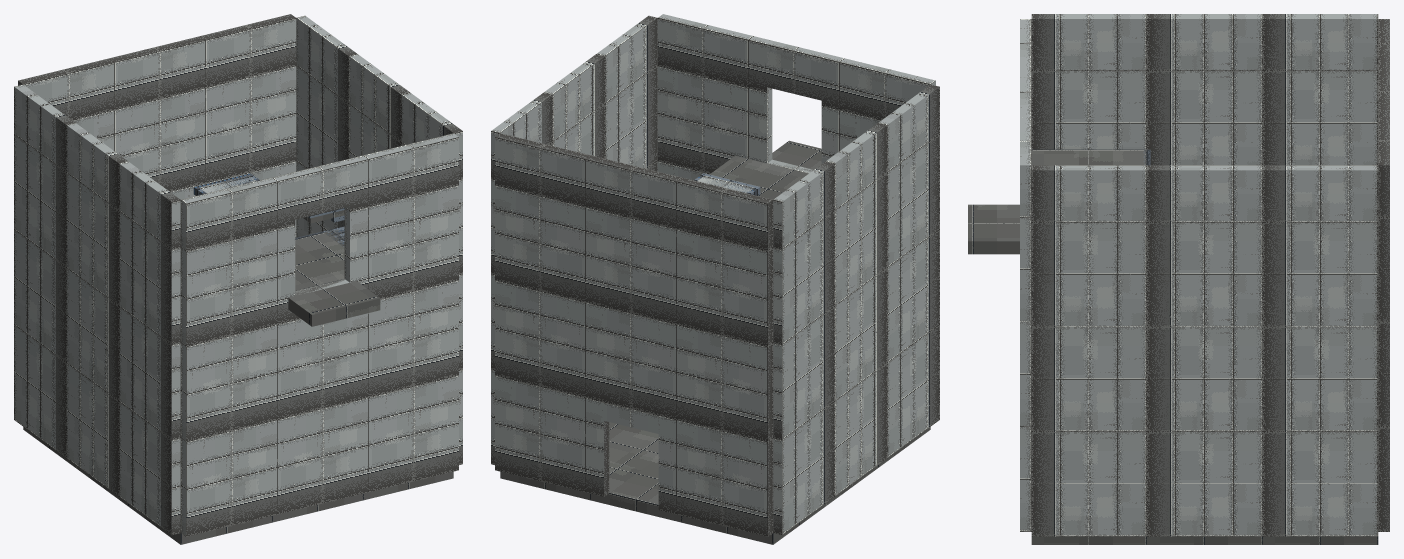
Rendered from shell_tower_spiral.glb.
3 renders of one model, left to right at view 1: azimuth 30°, elevation 25°; view 2: azimuth 150°, elevation 25°; view 3: azimuth 270°, elevation 25°, orthographic. The views are drawn at different scales.
Parts seen in each view (by area): view 1: shell_tower_spiral; view 2: shell_tower_spiral; view 3: shell_tower_spiral.
Part boxes in pixels (x1,y1,x2,y2): shell_tower_spiral: (14,14,462,544); shell_tower_spiral: (491,14,939,544); shell_tower_spiral: (968,14,1389,544).
Size of what is drawn, in the model's own units: 12.8 by 14.5 by 14.6.
Materials: 53 (53 with a texture image).
